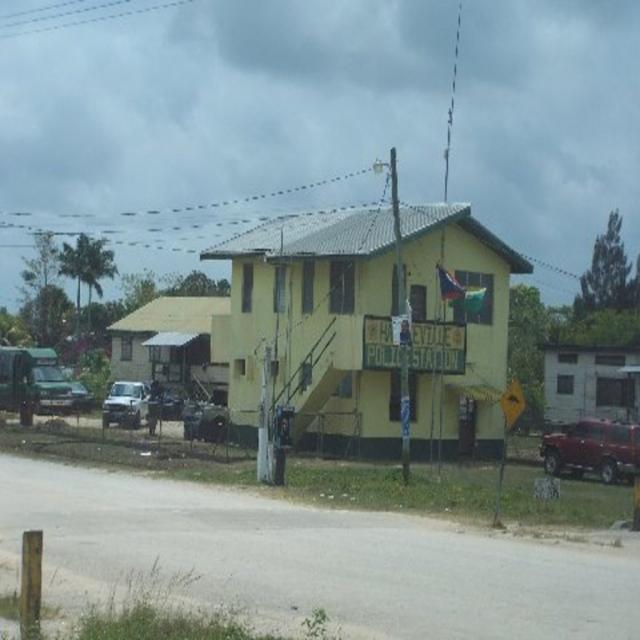car: (541, 418, 638, 481), (102, 376, 152, 436)
